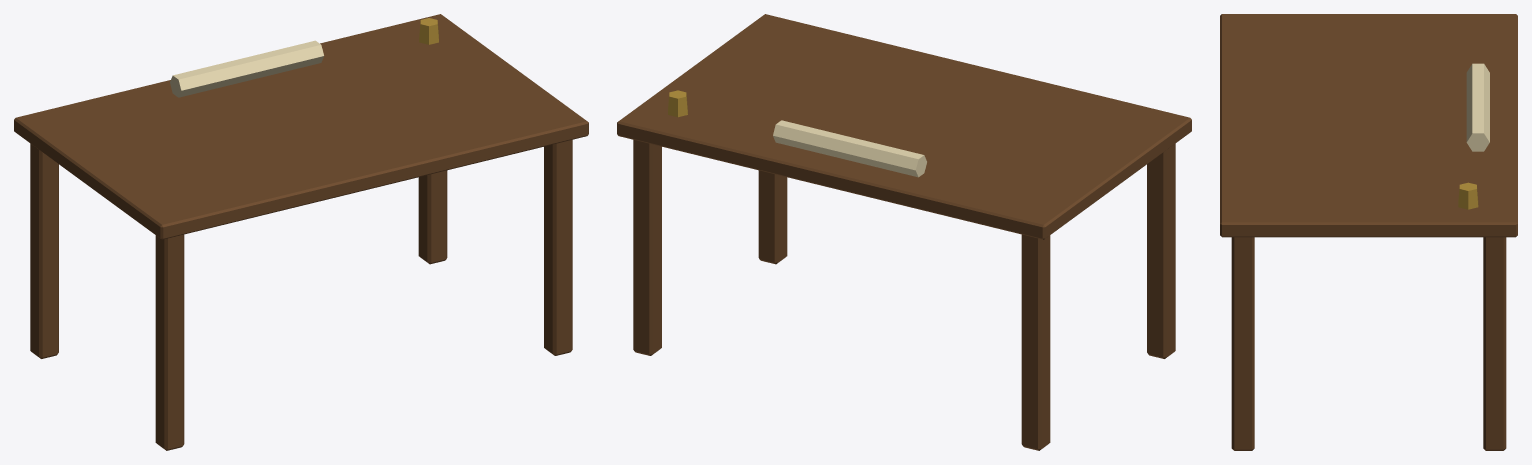
The model's file is Prop_Lab_SurveyTable_LOD1.glb.
The picture shows the model from 3 angles, left to right: view 1: azimuth 30°, elevation 25°; view 2: azimuth 150°, elevation 25°; view 3: azimuth 270°, elevation 25°; orthographic projection.
Parts seen in each view (by area): view 1: Prop_Lab_SurveyTable; view 2: Prop_Lab_SurveyTable; view 3: Prop_Lab_SurveyTable.
Part boxes in pixels (<box>): Prop_Lab_SurveyTable: <box>14,14,588,450</box>; Prop_Lab_SurveyTable: <box>617,14,1191,450</box>; Prop_Lab_SurveyTable: <box>1220,14,1517,450</box>.
Bounding box in the file's own units: 1.5 × 0.8453 × 0.9.
